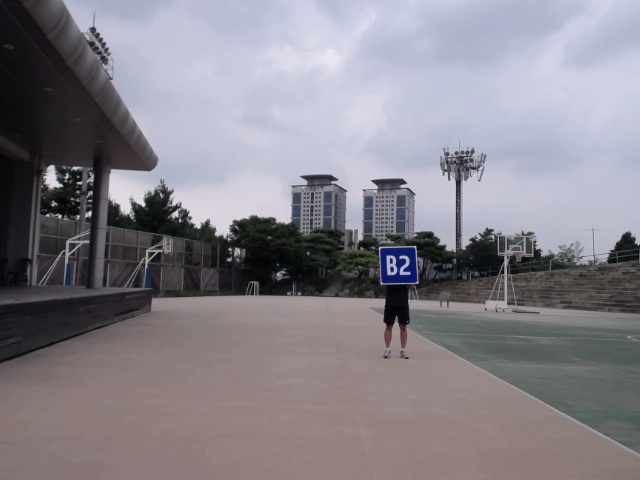delivery_b2: (379, 246, 420, 285)
